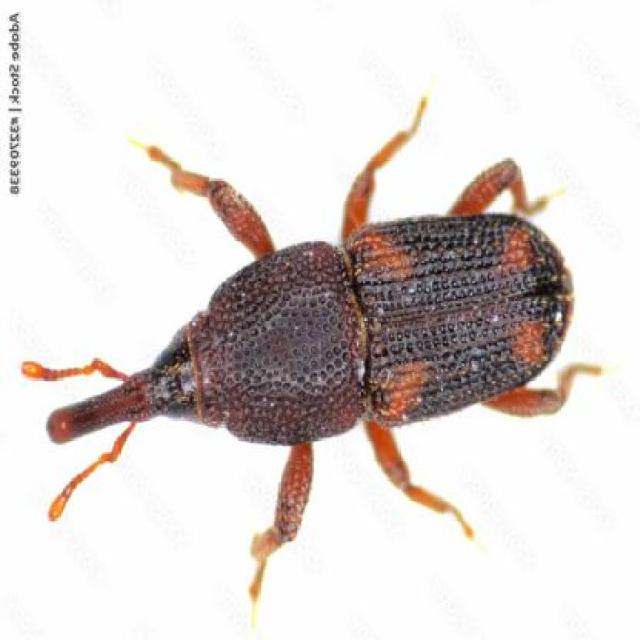rice-bug: (42, 164, 573, 507)
